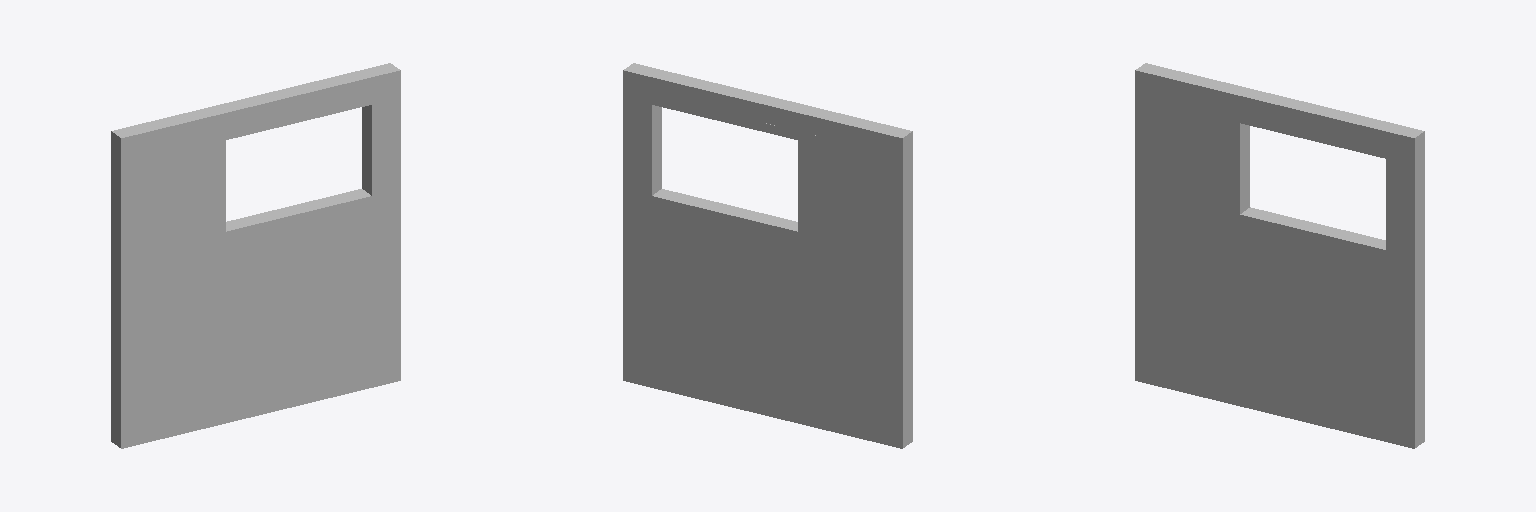
The model's file is df4d_left_board_e.obj.
3 views of the same model, side by side, from view 1: azimuth 30°, elevation 25°; view 2: azimuth 150°, elevation 25°; view 3: azimuth 330°, elevation 25° (orthographic).
Visible parts, largest first — view 1: df4d_left_broad_e; view 2: df4d_left_broad_e; view 3: df4d_left_broad_e.
Part boxes in pixels (bbox=[...]): df4d_left_broad_e: bbox=[111, 63, 400, 448]; df4d_left_broad_e: bbox=[623, 63, 912, 448]; df4d_left_broad_e: bbox=[1135, 63, 1424, 448].
Size of the model in its own units: 2 by 2.12 by 0.1258.